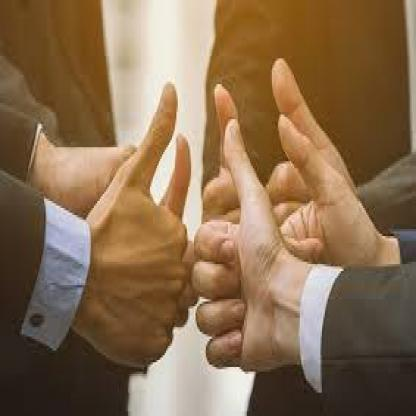thumb_up: (91, 80, 189, 374), (189, 114, 286, 378)
